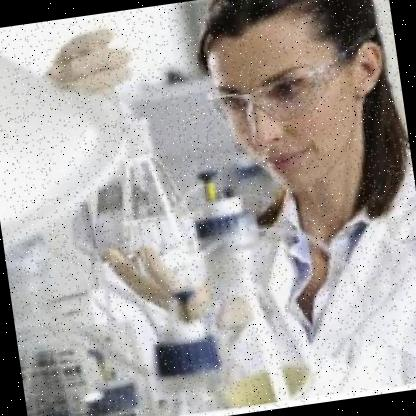oculos: (191, 24, 394, 134)
